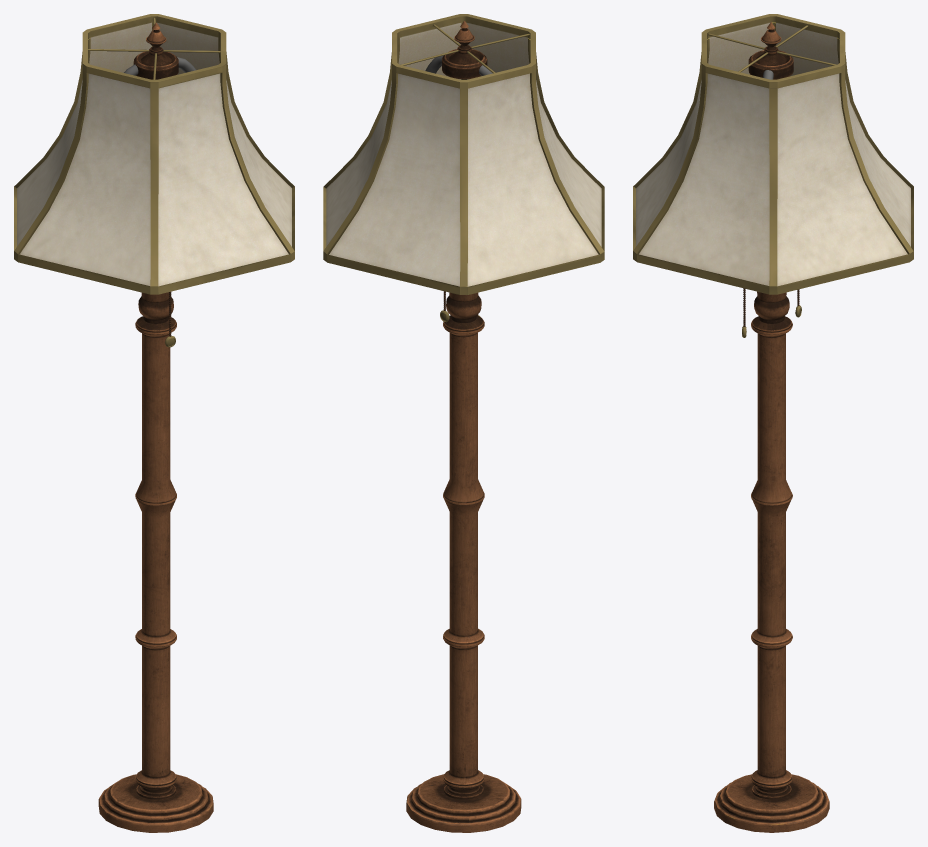
The model's file is LamparaAntigua.fbx.
The picture shows the model from 3 angles, left to right: view 1: azimuth 30°, elevation 25°; view 2: azimuth 150°, elevation 25°; view 3: azimuth 270°, elevation 25°; orthographic projection.
Parts seen in each view (by area): view 1: LampShade_LOD0, Rod_LOD0, MainSupport_LOD0; view 2: LampShade_LOD0, Rod_LOD0, MainSupport_LOD0; view 3: LampShade_LOD0, Rod_LOD0, MainSupport_LOD0.
Part boxes in pixels (bbox=[...]): LampShade_LOD0: bbox=[14, 14, 294, 294]; Rod_LOD0: bbox=[98, 292, 213, 832]; MainSupport_LOD0: bbox=[124, 22, 196, 79]; LampShade_LOD0: bbox=[323, 14, 604, 294]; Rod_LOD0: bbox=[406, 292, 521, 832]; MainSupport_LOD0: bbox=[425, 21, 492, 79]; LampShade_LOD0: bbox=[633, 14, 913, 294]; Rod_LOD0: bbox=[714, 291, 829, 832]; MainSupport_LOD0: bbox=[748, 22, 793, 79].
Size of what is drawn, in the model's own units: 661 by 1793 by 580.
